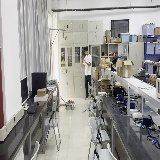fire: (67, 88, 72, 103)
